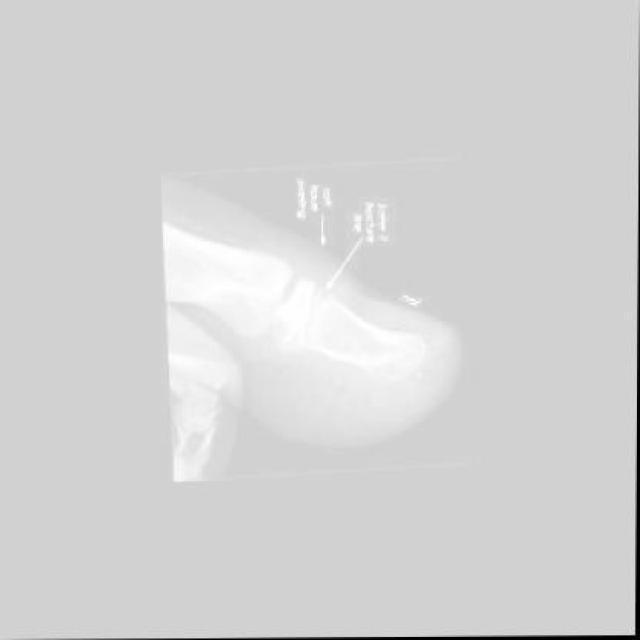Fracture: (289, 260, 348, 347)
